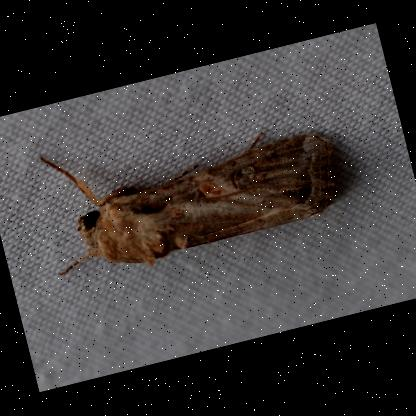Fall Armyworm Moth: (27, 84, 355, 294)
